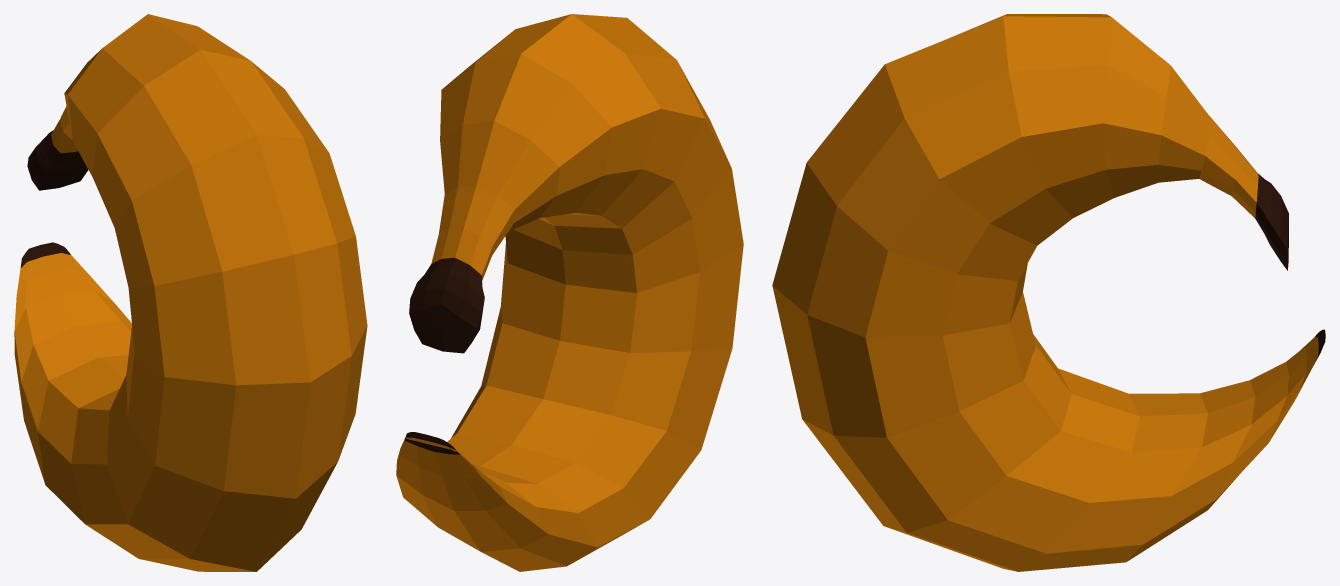
Rendered from Banana_000001.obj.
The picture shows the model from 3 angles, left to right: view 1: azimuth 30°, elevation 25°; view 2: azimuth 150°, elevation 25°; view 3: azimuth 270°, elevation 25°; orthographic projection. The views are drawn at different scales.
Visible parts, largest first — view 1: Banana_to_export_Cylinder.001; view 2: Banana_to_export_Cylinder.001; view 3: Banana_to_export_Cylinder.001.
Part boxes in pixels (x1,y1,x2,y2): Banana_to_export_Cylinder.001: (14,14,367,571); Banana_to_export_Cylinder.001: (396,14,743,571); Banana_to_export_Cylinder.001: (772,14,1325,571).
Bounding box in the file's own units: 0.1401 × 0.3402 × 0.3083.
